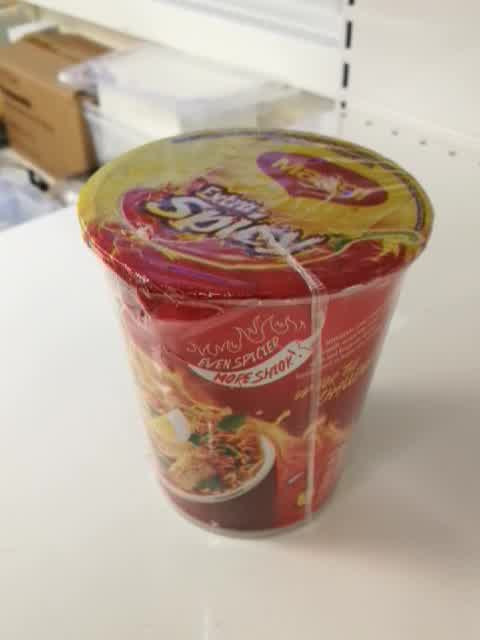maggi: (76, 126, 436, 542)
